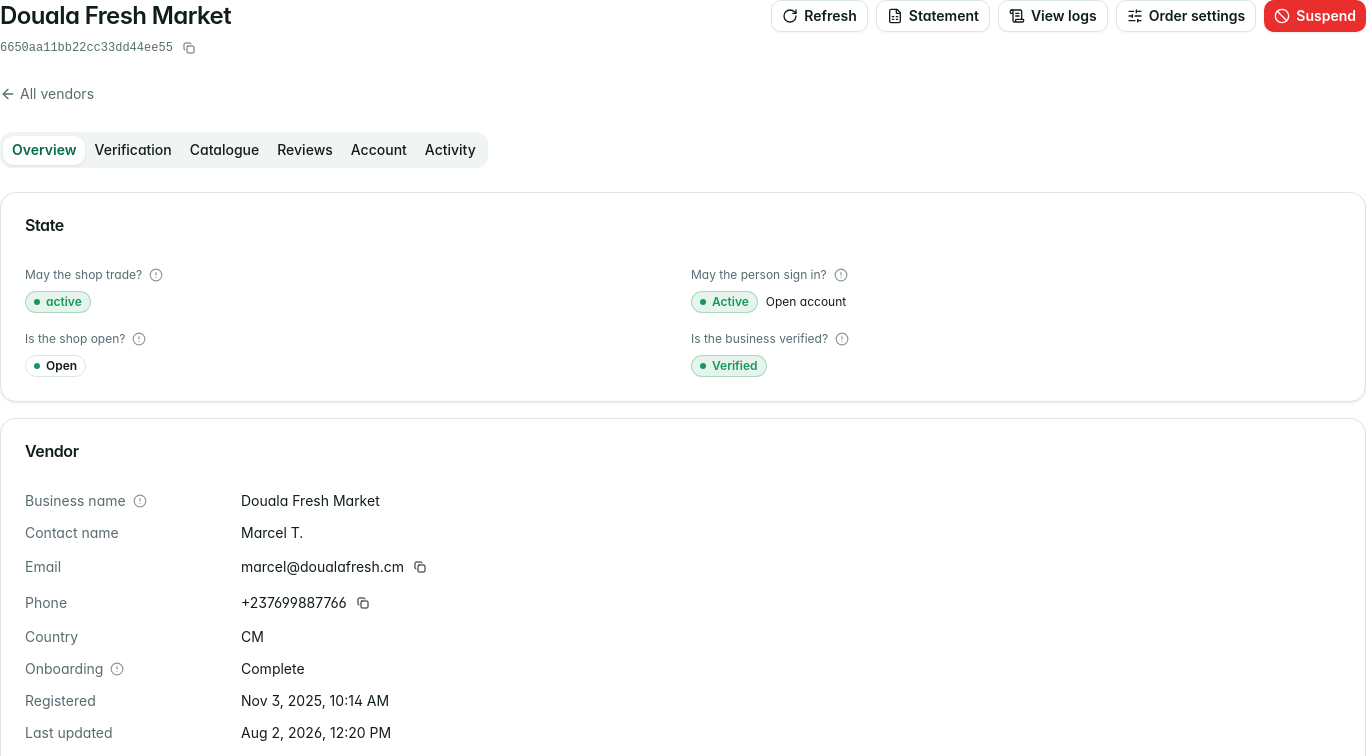
Test: the account tab › says a vendor cannot hold cash rather than reporting zero
The width and height of the screenshot is (1366, 756).
Click the tab "Account". click: click(379, 150)
box: [342, 136, 416, 164]
(page scrolled)
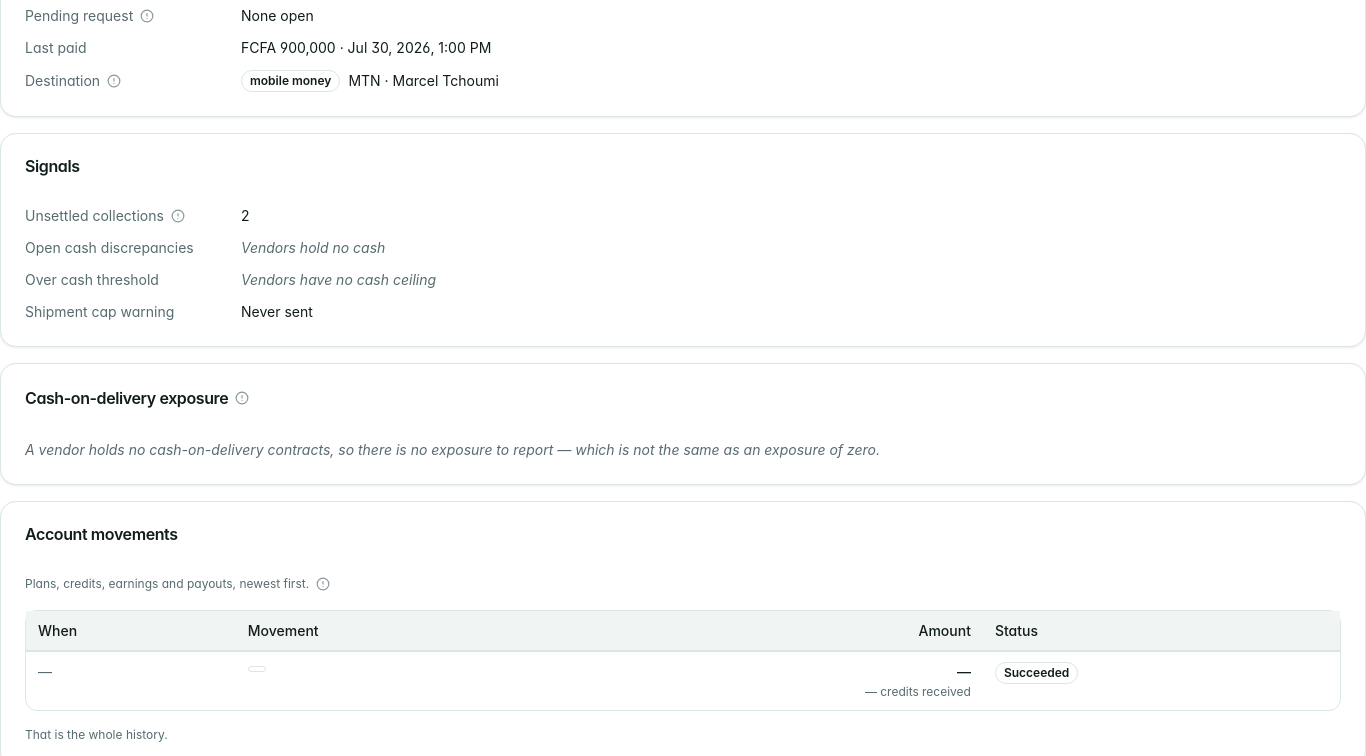
Check: the text "Vendors hold no cash" is shown, box [241, 239, 385, 256]
Check: the text "no cash-on-delivery contracts" is shown, box [25, 441, 880, 458]
